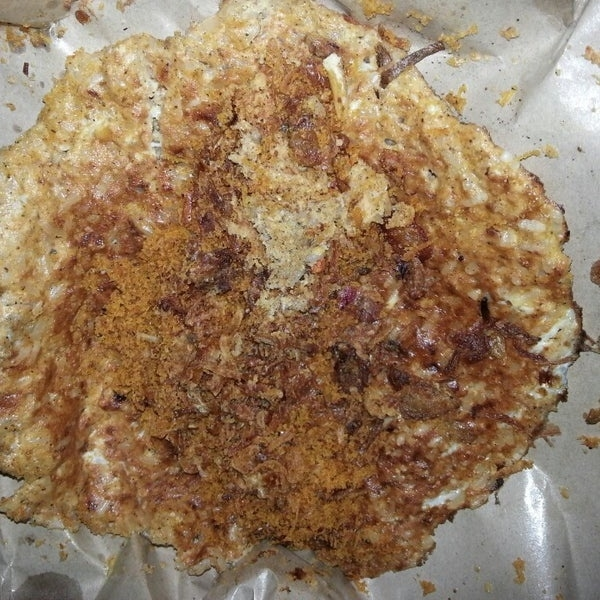kerak_telor: (1, 2, 583, 572)
